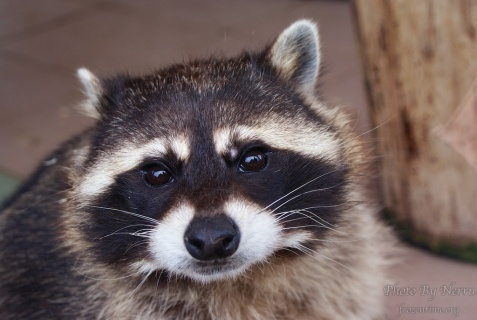Raccoon: (0, 12, 409, 320)
